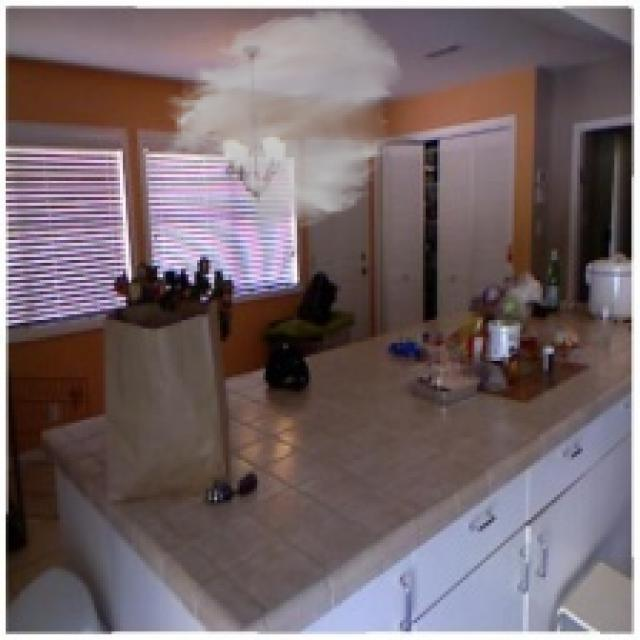Smoke: (157, 5, 406, 232)
